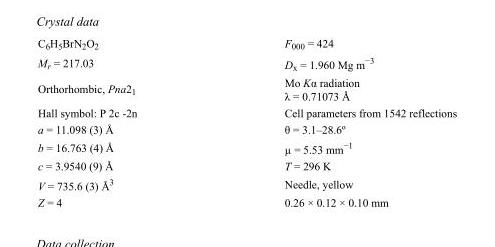table: (37, 36, 456, 208)
table column: (210, 36, 456, 208), (37, 36, 210, 208)
table row: (37, 73, 456, 104), (37, 52, 456, 73), (37, 137, 456, 157), (37, 174, 456, 193), (37, 120, 456, 137), (37, 157, 456, 174), (37, 36, 456, 52), (37, 104, 456, 120), (37, 193, 456, 208)
